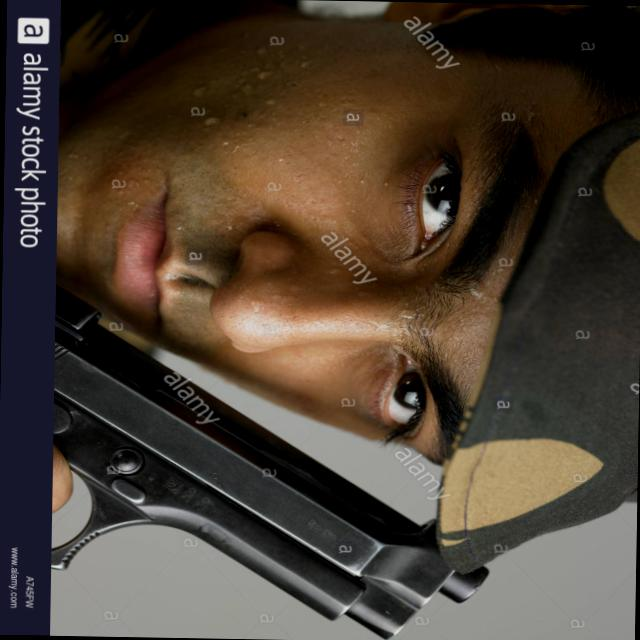handgun: (48, 281, 487, 639)
